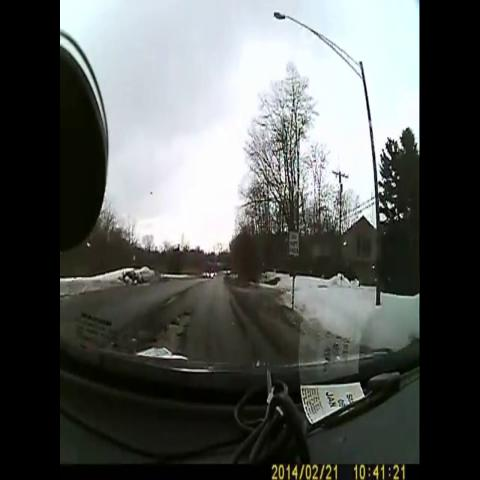pothole: (150, 293, 199, 359)
